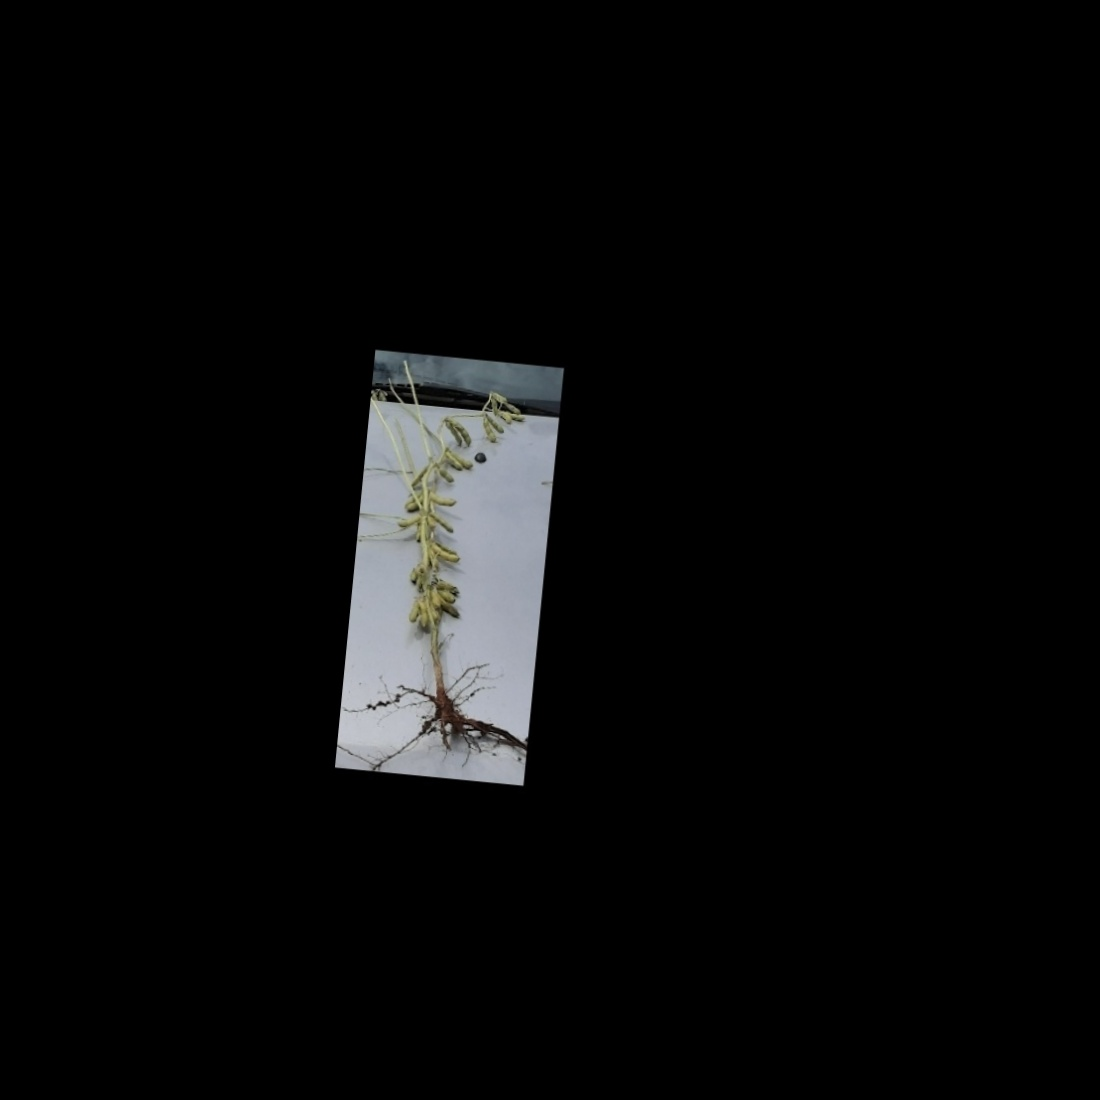pod: (423, 508, 460, 538), (423, 542, 463, 567), (443, 419, 476, 448), (443, 418, 466, 452), (423, 491, 461, 510), (482, 411, 507, 437), (391, 514, 423, 531), (498, 398, 525, 418), (482, 416, 499, 447), (404, 599, 421, 625), (492, 391, 511, 406)
soy: (355, 366, 541, 746)
